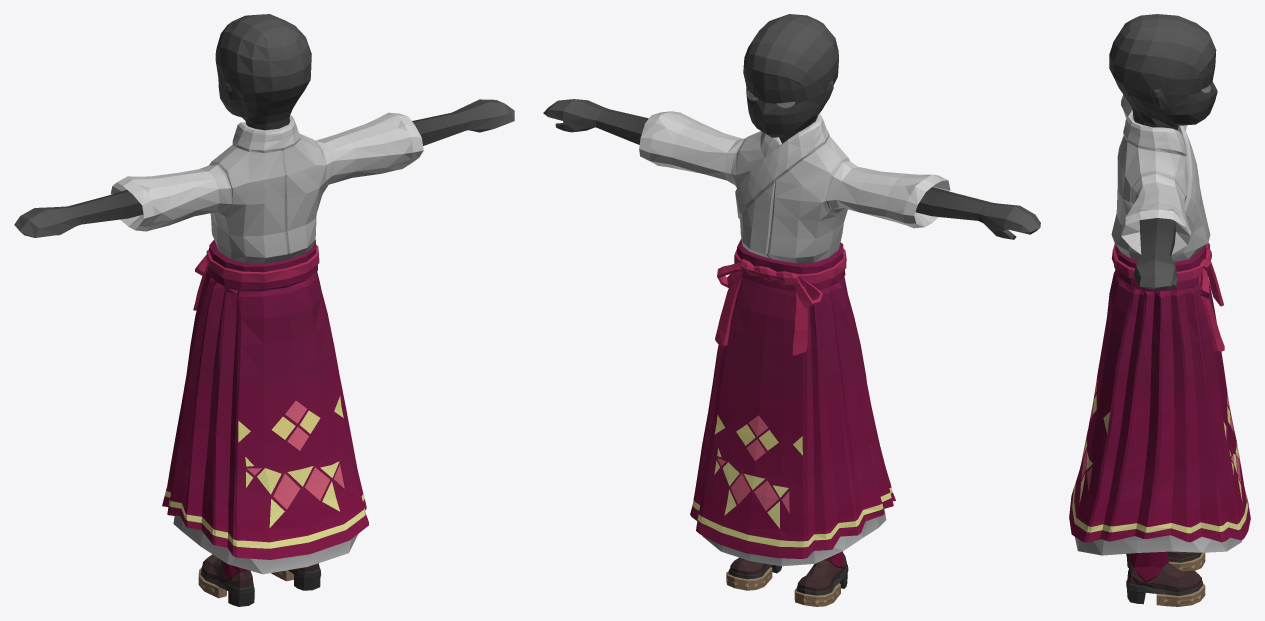
The model's file is CharSkyKid_Body_FortunePanelDress.glb.
The picture shows the model from 3 angles, left to right: view 1: azimuth 30°, elevation 25°; view 2: azimuth 150°, elevation 25°; view 3: azimuth 270°, elevation 25°; orthographic projection.
Parts seen in each view (by area): view 1: CharSkyKid_Body_FortunePanelDress; view 2: CharSkyKid_Body_FortunePanelDress; view 3: CharSkyKid_Body_FortunePanelDress.
Part boxes in pixels (box(x1,y1,x2,y2)): CharSkyKid_Body_FortunePanelDress: box(14, 14, 514, 606); CharSkyKid_Body_FortunePanelDress: box(543, 14, 1040, 606); CharSkyKid_Body_FortunePanelDress: box(1069, 14, 1250, 606).
Bounding box in the file's own units: 13.83 × 15.13 × 4.42.
1 material, 1 textured.
